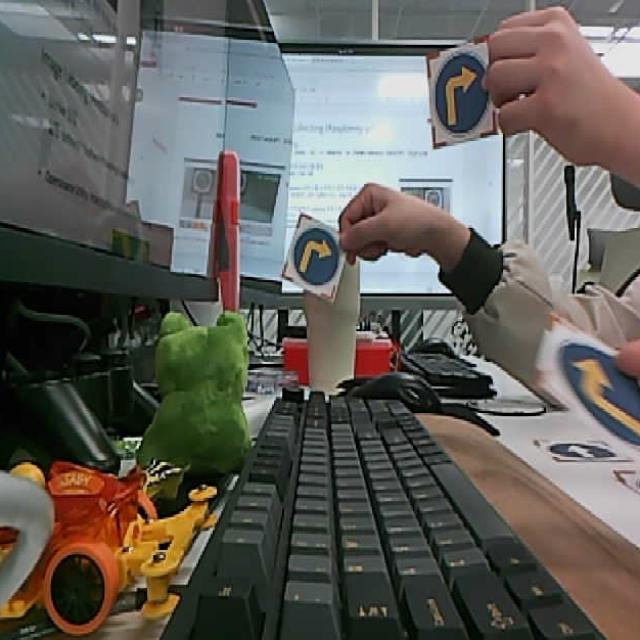straight: (539, 441, 636, 464)
turn: (535, 306, 640, 441), (424, 36, 501, 149), (280, 212, 351, 304)
